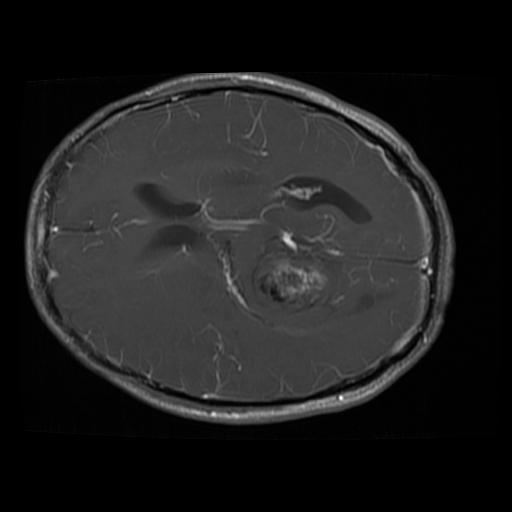glioma: (248, 225, 344, 328)
